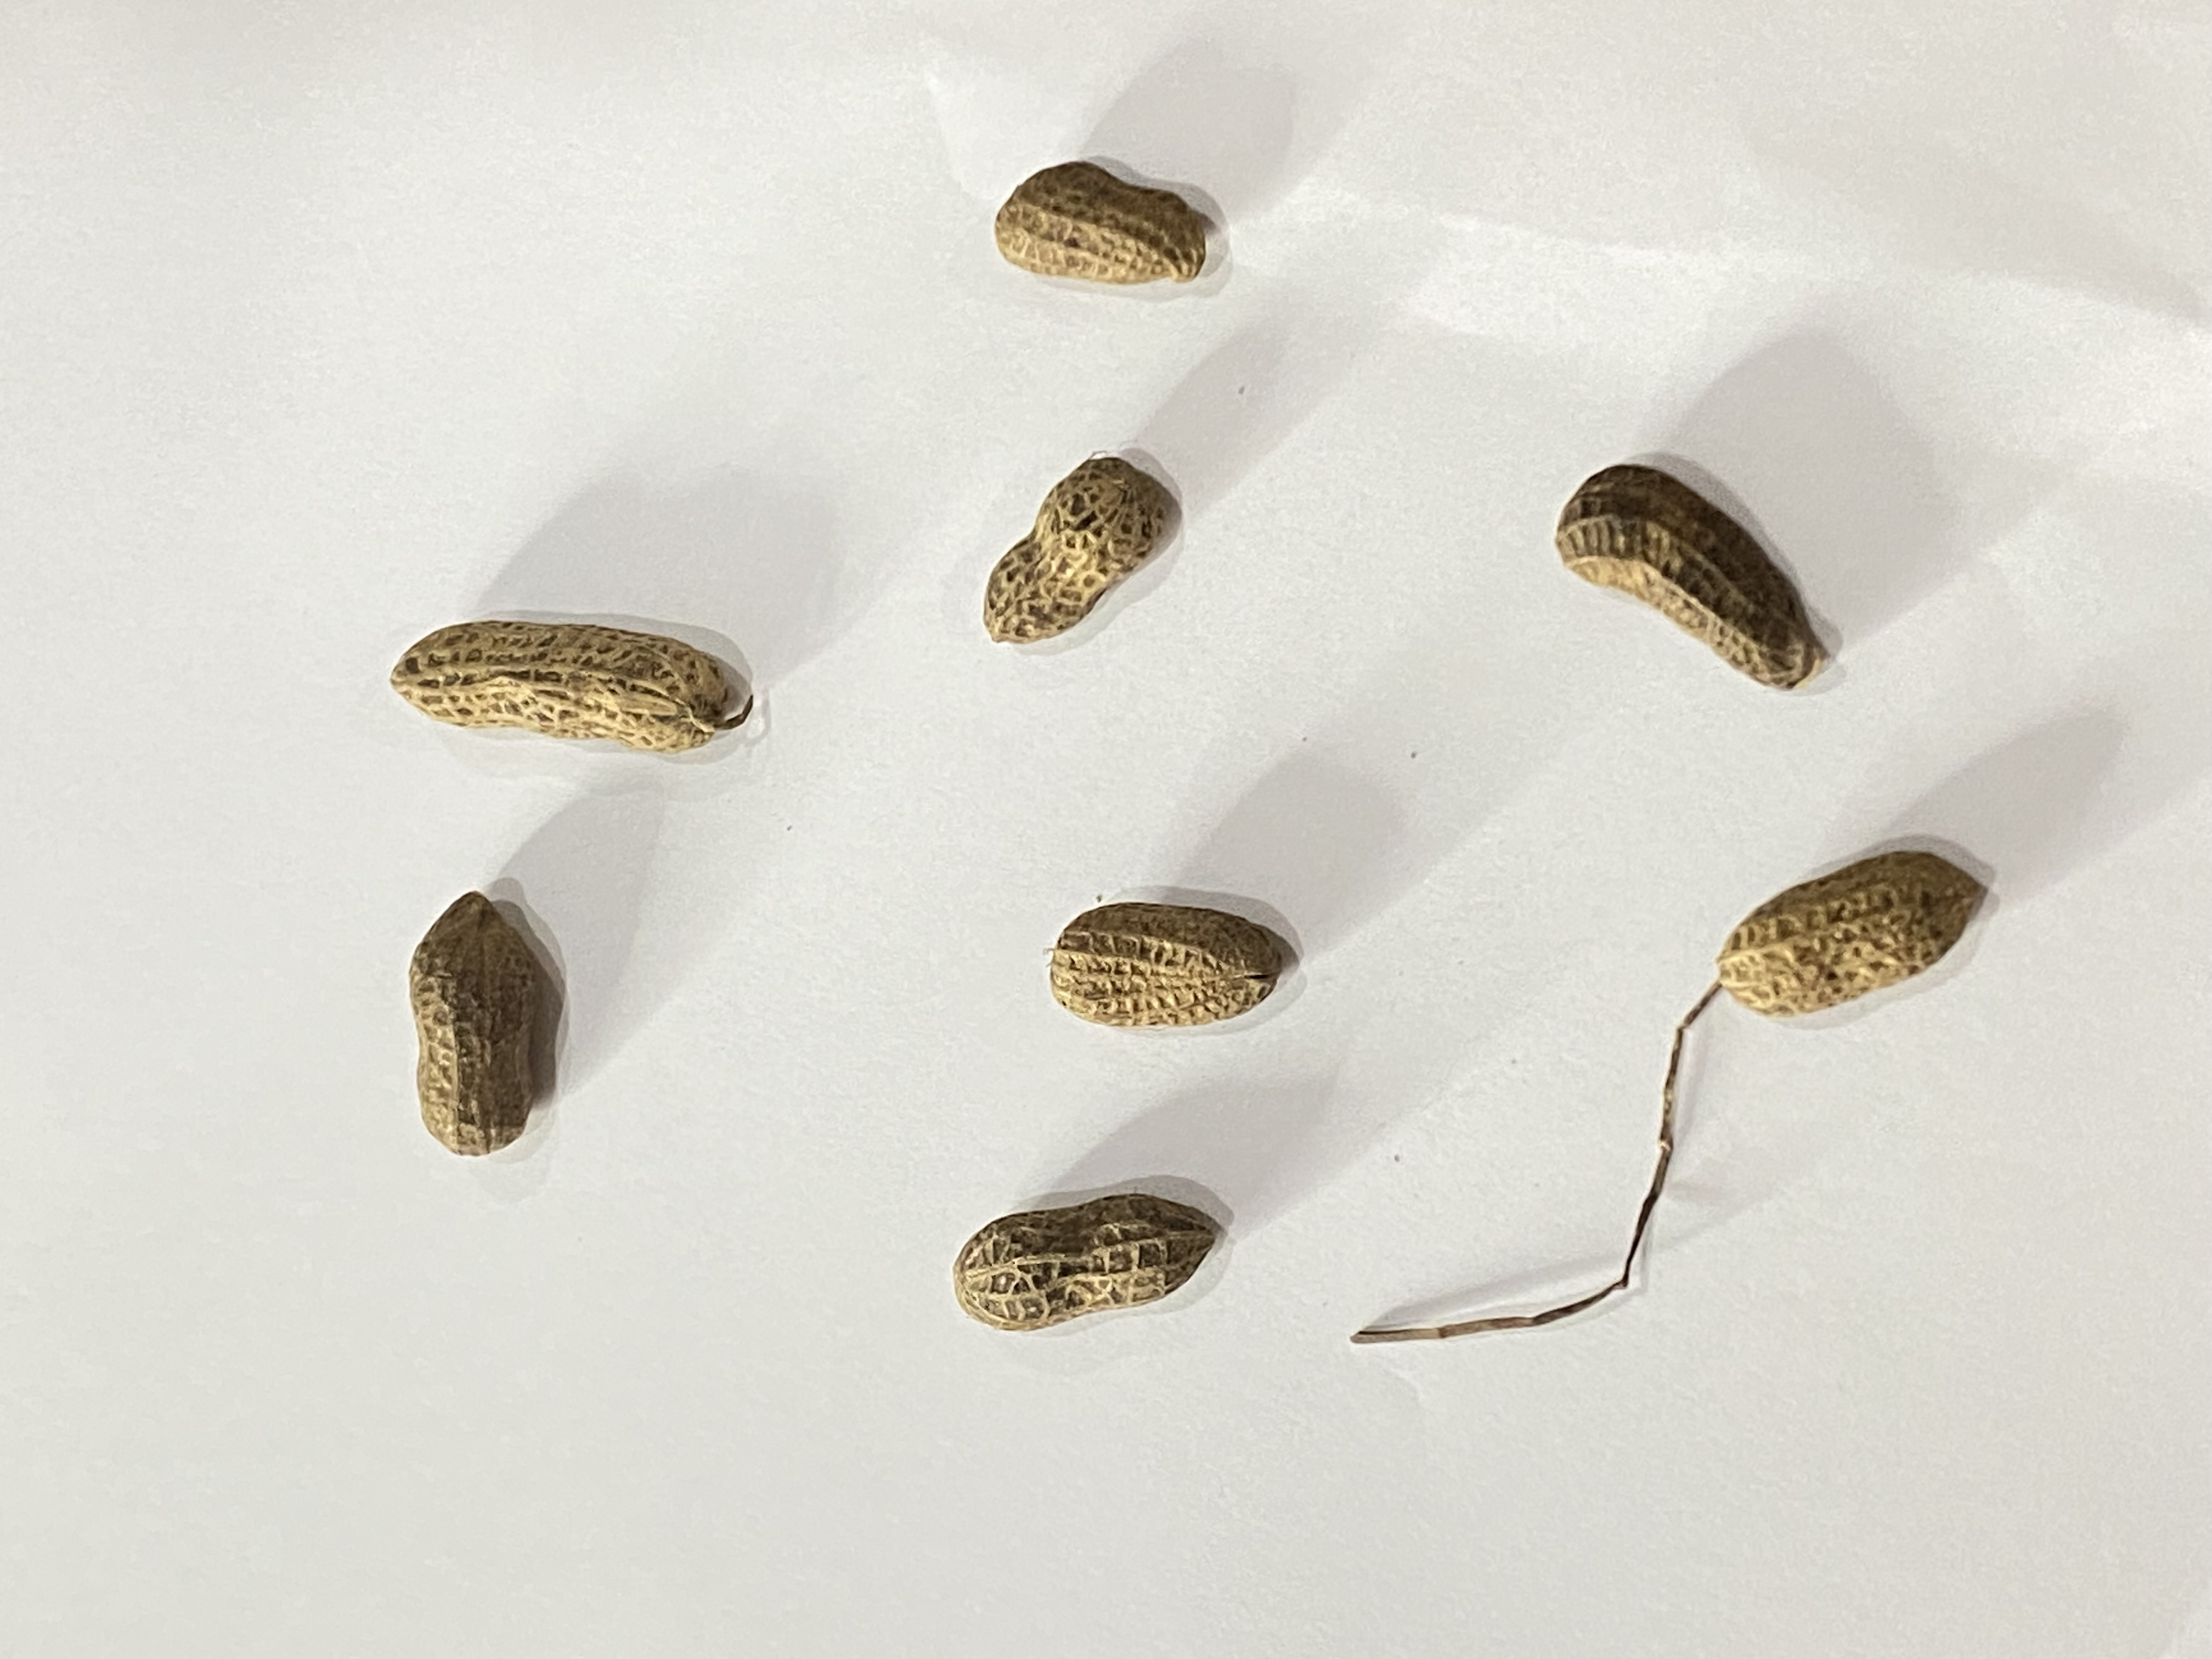kacang1: (991, 899, 1360, 1039), (981, 139, 1224, 317)
kacang2: (1515, 437, 1857, 716), (336, 868, 622, 1175), (1689, 821, 2001, 1033), (867, 1195, 1287, 1333), (948, 444, 1183, 652)
kacang3: (319, 584, 812, 782)
